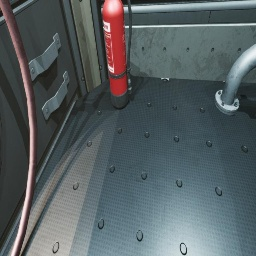FireExtinguisher ]: (102, 0, 132, 109)
